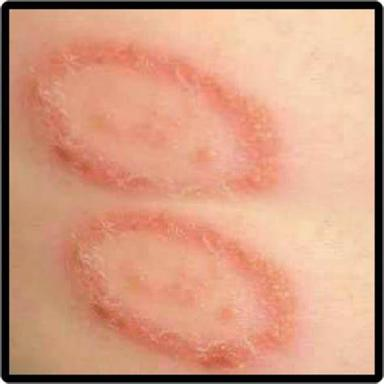Tinea-Corporis: (33, 47, 277, 199), (72, 209, 293, 368)
